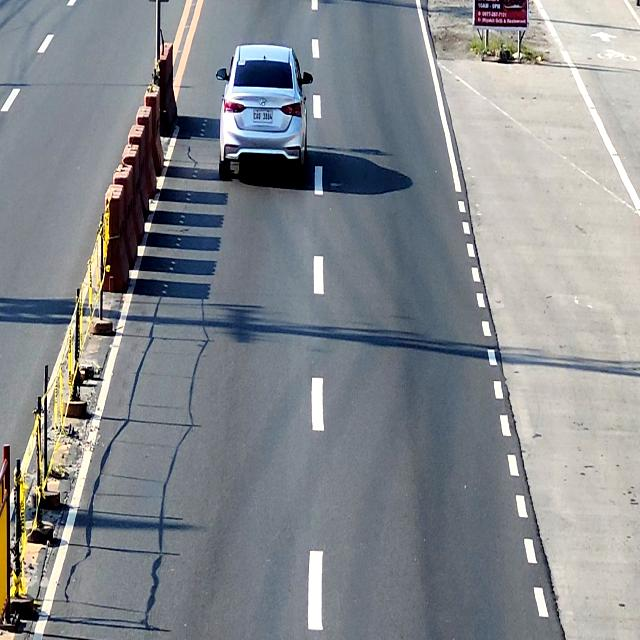Car: (215, 43, 313, 186)
License-Plate: (252, 110, 273, 124)
